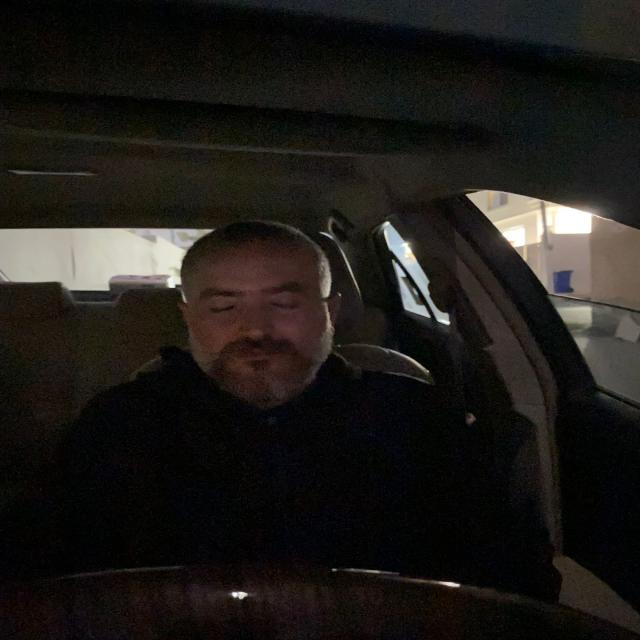drowsy: (169, 216, 357, 407)
